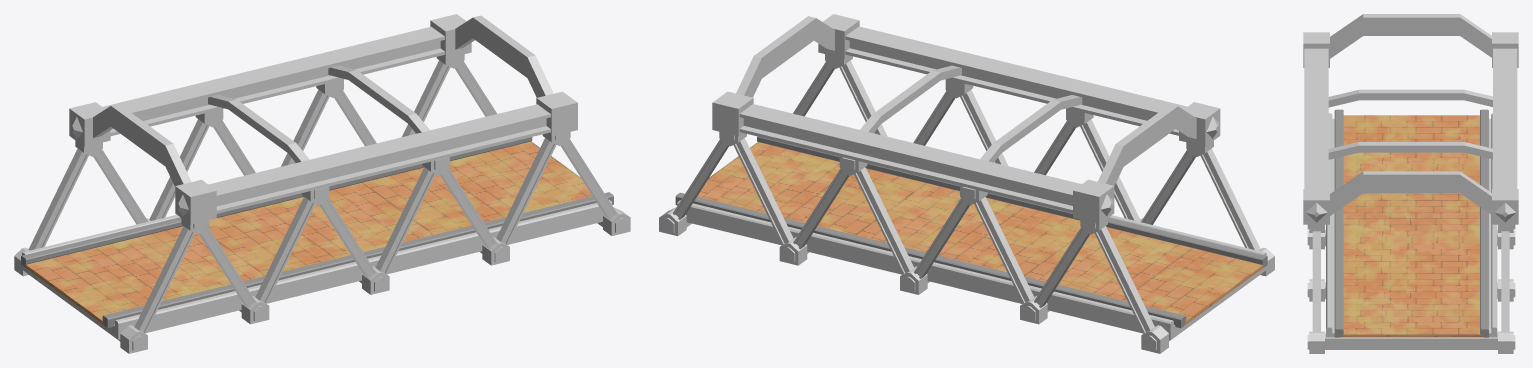
File: bridge.fbx
The picture shows the model from 3 angles, left to right: view 1: azimuth 30°, elevation 25°; view 2: azimuth 150°, elevation 25°; view 3: azimuth 270°, elevation 25°; orthographic projection. The views are drawn at different scales.
Parts seen in each view (by area): view 1: Cube.008, Cube.036, Cube.031, Cube.010, Cube.055, Cube.054, Cube.046, Cube.053, Cube.050, Cube.048, Cube.035, Cube.057 (+21 smaller); view 2: Cube.008, Cube.031, Cube.036, Cube.010, Cube.054, Cube.055, Cube.016, Cube.014, Cube.007, Cube.012, Cube.032, Cube.056 (+21 smaller); view 3: Cube.008, Cube.055, Cube.054, Cube.036, Cube.031, Cube.010, Cube.019, Cube.056, Cube.057, Cube.033, Cube.034, Cube.015 (+8 smaller).
Boxes of the visible parts, <box> form: Cube.008: <box>21,137,613,327</box>; Cube.036: <box>208,104,550,213</box>; Cube.031: <box>103,26,444,135</box>; Cube.010: <box>22,200,611,339</box>; Cube.055: <box>455,15,553,97</box>; Cube.054: <box>93,104,191,186</box>; Cube.046: <box>134,226,194,333</box>; Cube.053: <box>375,167,435,274</box>; Cube.050: <box>255,197,315,303</box>; Cube.048: <box>496,138,556,245</box>; Cube.035: <box>175,179,216,224</box>; Cube.057: <box>328,65,429,133</box>; Cube.008: <box>675,136,1267,328</box>; Cube.031: <box>739,104,1081,213</box>; Cube.036: <box>845,26,1187,135</box>; Cube.010: <box>677,200,1266,339</box>; Cube.054: <box>1097,104,1196,185</box>; Cube.055: <box>736,16,834,97</box>; Cube.016: <box>1094,226,1154,333</box>; Cube.014: <box>733,138,793,244</box>; Cube.007: <box>854,167,914,273</box>; Cube.012: <box>974,197,1033,303</box>; Cube.032: <box>1073,179,1114,224</box>; Cube.056: <box>980,95,1082,162</box>; Cube.008: <box>1334,109,1488,337</box>; Cube.055: <box>1330,171,1491,215</box>; Cube.054: <box>1330,14,1491,58</box>; Cube.036: <box>1304,48,1328,188</box>; Cube.031: <box>1493,48,1517,188</box>; Cube.010: <box>1326,113,1497,337</box>; Cube.019: <box>1325,333,1497,349</box>; Cube.056: <box>1328,89,1492,107</box>; Cube.057: <box>1328,142,1492,159</box>; Cube.033: <box>1492,189,1518,224</box>; Cube.034: <box>1303,189,1329,224</box>; Cube.015: <box>1501,231,1509,331</box>.
Size of the model in its own units: 722 by 231 by 298.
Materials: 6 (3 with a texture image).
